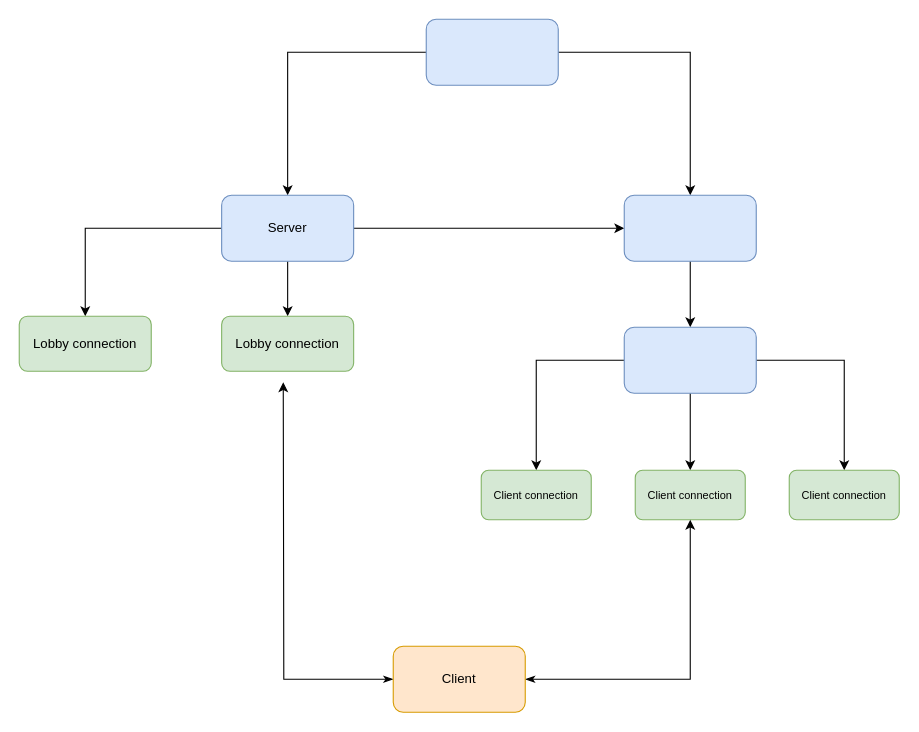
Image size: 919x732. Some labels were removed from this diagram. Here are the shapes that lost their labels. From the top down, the centre of each, then its label:
At point (491, 51): "App Supervisor".
At point (689, 227): "Room Supervisor".
At point (689, 359): "Room".
